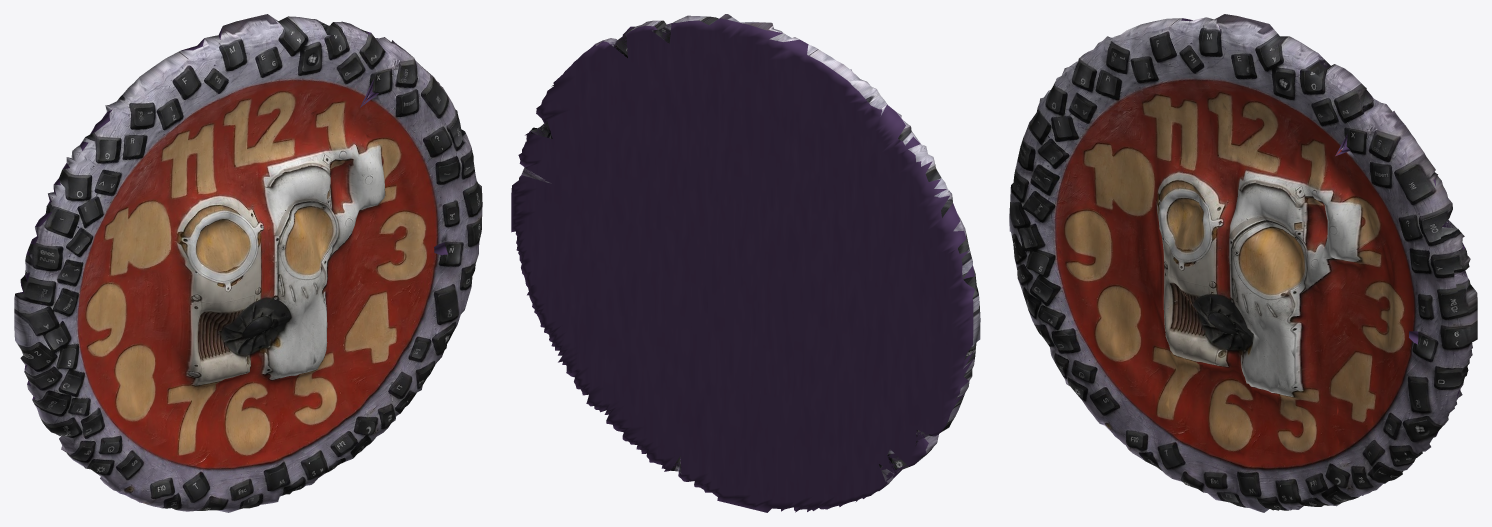
The model's file is escultura-esc-019.glb.
3 views of the same model, side by side, from view 1: azimuth 30°, elevation 25°; view 2: azimuth 150°, elevation 25°; view 3: azimuth 330°, elevation 25° (orthographic).
Parts seen in each view (by area): view 1: world; view 2: world; view 3: world.
Boxes of the visible parts, x1,y1,x2,y2 form: world: [14, 14, 482, 512]; world: [511, 14, 980, 512]; world: [1009, 14, 1477, 512].
Size of the model in its own units: 0.52 by 0.52 by 0.048.
Materials: 1 (1 with a texture image).
